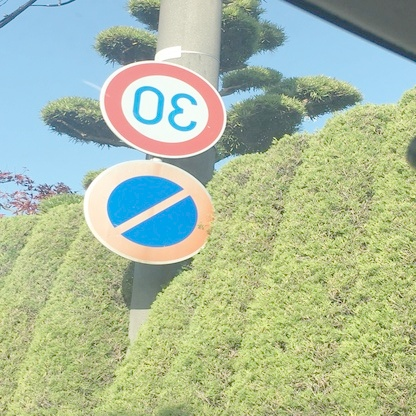Prohibition_sign: (86, 161, 226, 273)
Speed_sign: (96, 49, 229, 161)
